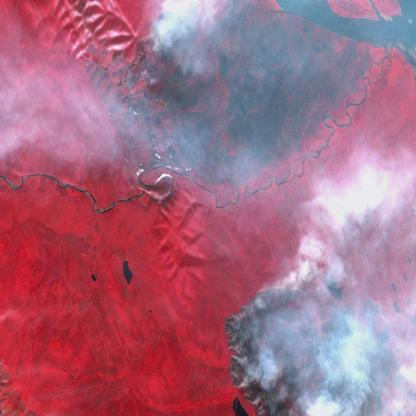fire: (220, 283, 416, 416), (117, 13, 174, 141)
